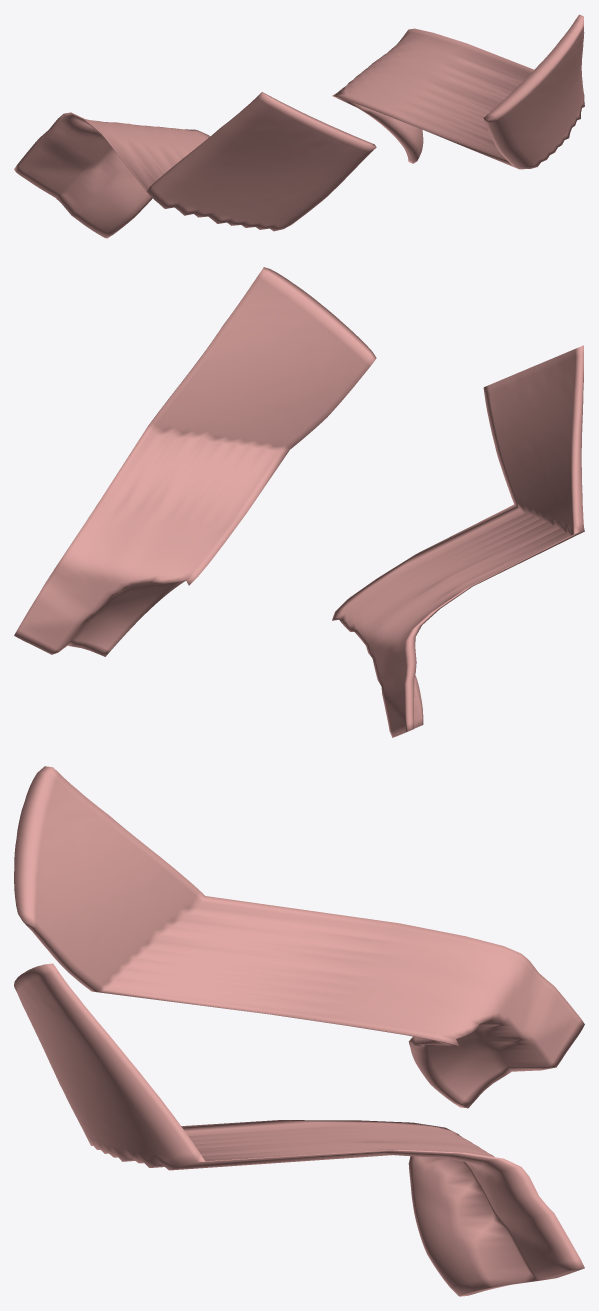
File: depressor_labii_inferioris_lod1.glb
3 renders of one model, top to bottom at view 1: azimuth 30°, elevation 25°; view 2: azimuth 150°, elevation 25°; view 3: azimuth 270°, elevation 25°, orthographic. The views are drawn at different scales.
Parts seen in each view (by area): view 1: depressor_labii_inferioris_R_lod1, depressor_labii_inferioris_L_lod1; view 2: depressor_labii_inferioris_L_lod1, depressor_labii_inferioris_R_lod1; view 3: depressor_labii_inferioris_R_lod1, depressor_labii_inferioris_L_lod1.
Part boxes in pixels (<box>): depressor_labii_inferioris_R_lod1: <box>14,92,376,238</box>; depressor_labii_inferioris_L_lod1: <box>332,14,584,169</box>; depressor_labii_inferioris_L_lod1: <box>14,267,376,656</box>; depressor_labii_inferioris_R_lod1: <box>332,345,584,737</box>; depressor_labii_inferioris_R_lod1: <box>14,766,584,1108</box>; depressor_labii_inferioris_L_lod1: <box>14,963,584,1296</box>.
Bounding box in the file's own units: 0.0359 × 0.0211 × 0.0324.
